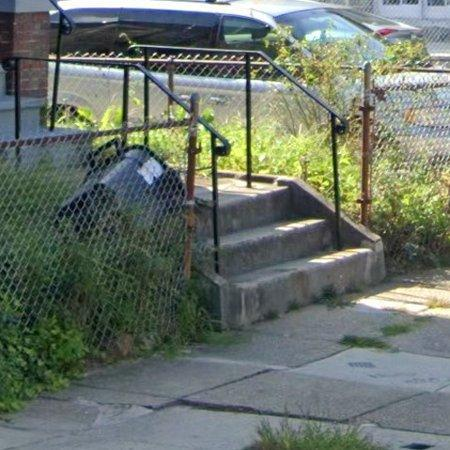stairs: (199, 177, 387, 328)
